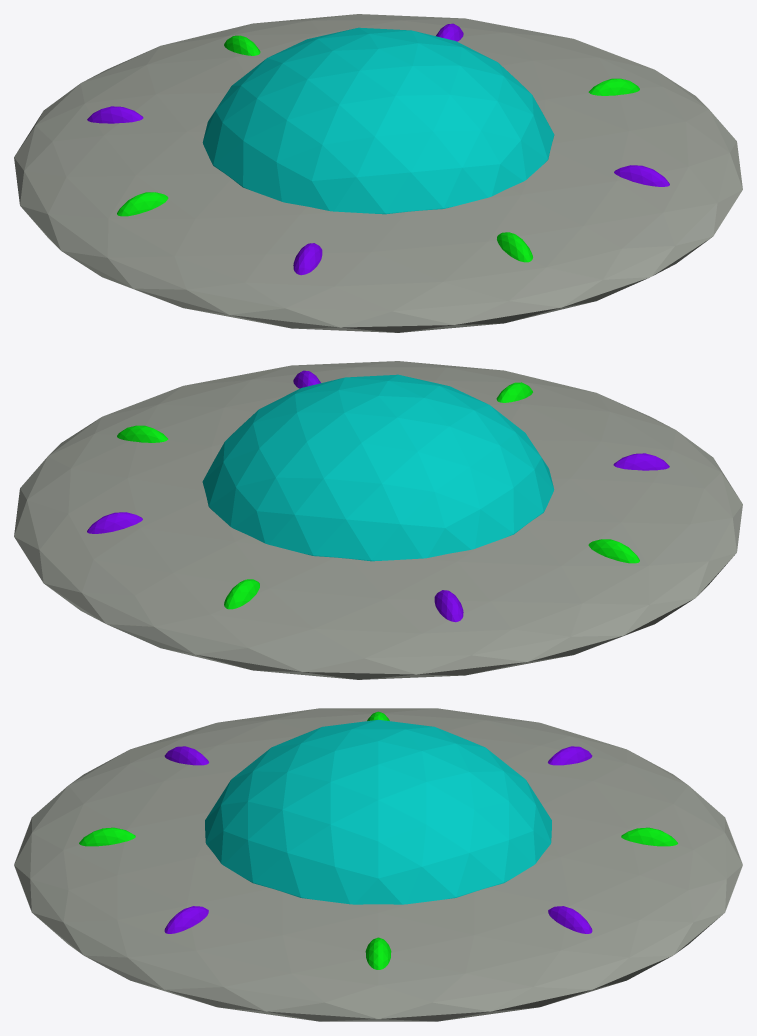
File: UFO_static.glb
The picture shows the model from 3 angles, top to bottom: view 1: azimuth 30°, elevation 25°; view 2: azimuth 150°, elevation 25°; view 3: azimuth 270°, elevation 25°; orthographic projection.
Parts seen in each view (by area): view 1: Icosphere, Icosphere.001, I1.009, I1.001, I1.005, I1.003, I1.007, I1.006, I1.002; view 2: Icosphere, Icosphere.001, I1.008, I1.001, I1.007, I1.002, I1.005, I1.006, I1.003; view 3: Icosphere, Icosphere.001, I1.002, I1.003, I1.008, I1.009, I1.006, I1.005, I1.007.
Boxes of the visible parts, bbox=[...] form: Icosphere: bbox=[14, 14, 742, 332]; Icosphere.001: bbox=[202, 27, 554, 214]; I1.009: bbox=[614, 165, 669, 186]; I1.001: bbox=[117, 192, 168, 216]; I1.005: bbox=[87, 106, 143, 123]; I1.003: bbox=[497, 232, 532, 262]; I1.007: bbox=[293, 243, 322, 275]; I1.006: bbox=[588, 78, 639, 95]; I1.002: bbox=[224, 35, 260, 55]; Icosphere: bbox=[14, 361, 742, 679]; Icosphere.001: bbox=[202, 374, 554, 561]; I1.008: bbox=[87, 512, 142, 533]; I1.001: bbox=[588, 539, 639, 563]; I1.007: bbox=[613, 453, 669, 470]; I1.002: bbox=[224, 579, 259, 609]; I1.005: bbox=[434, 590, 463, 622]; I1.006: bbox=[117, 425, 168, 442]; I1.003: bbox=[496, 382, 532, 402]; Icosphere: bbox=[14, 708, 742, 1021]; Icosphere.001: bbox=[205, 719, 551, 904]; I1.002: bbox=[621, 827, 677, 846]; I1.003: bbox=[79, 827, 135, 846]; I1.008: bbox=[548, 906, 592, 933]; I1.009: bbox=[164, 906, 208, 933]; I1.006: bbox=[365, 937, 391, 969]; I1.005: bbox=[548, 746, 592, 765]; I1.007: bbox=[164, 746, 208, 765].
Bounding box in the file's own units: 6 × 2.25 × 6.
